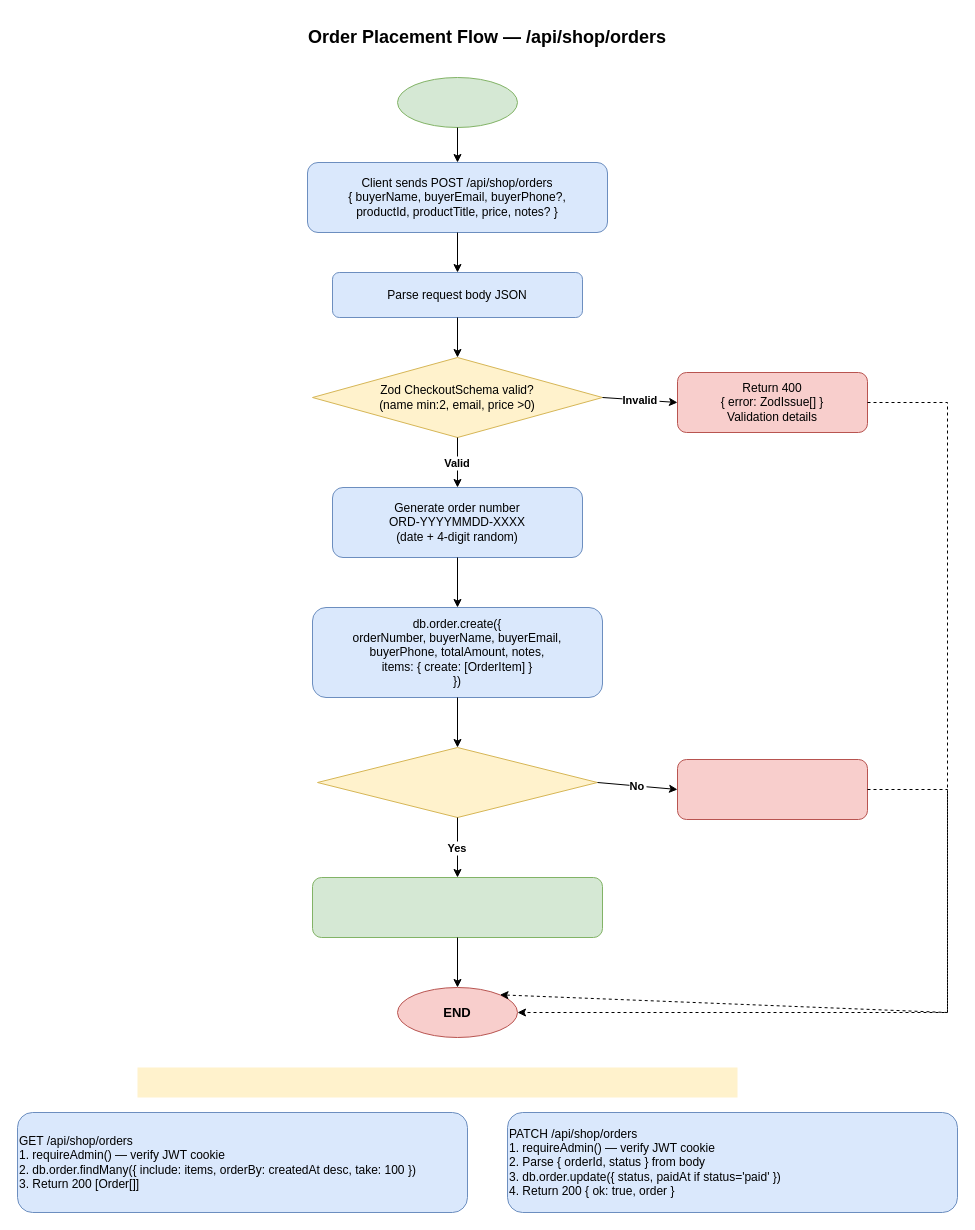
Some shapes in this 975 by 1230 pixel diagram are drawn without their labels. Here are the shapes that lost their labels. From the top down, the centre of each, then its label:
At point 457,102: "START".
At point 457,782: "DB write success?".
At point 772,789: "Return 500 Internal Server Error (logged to console)".
At point 457,907: "Return 201 { ok: true, order: Order & { items: OrderItem[] } }".
At point 437,1082: "Admin-only Endpoints (require valid admin_token cookie)".
